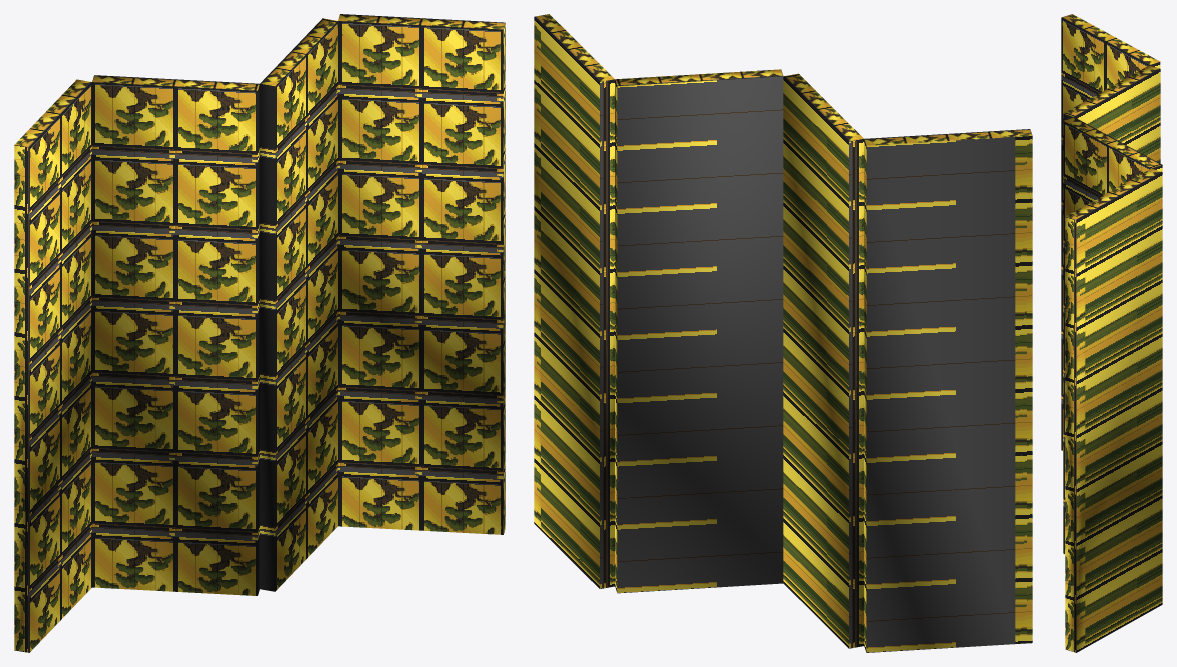
Rendered from 3267IMIG04_01.gltf.
3 views of the same model, side by side, from view 1: azimuth 30°, elevation 25°; view 2: azimuth 150°, elevation 25°; view 3: azimuth 270°, elevation 25° (orthographic). The views are drawn at different scales.
Visible parts, largest first — view 1: 3267IMIG04_01; view 2: 3267IMIG04_01; view 3: 3267IMIG04_01.
Part boxes in pixels (x1,y1,x2,y2): 3267IMIG04_01: (14,14,505,652); 3267IMIG04_01: (534,14,1032,652); 3267IMIG04_01: (1061,14,1162,652).
Size of the model in its own units: 1.88 by 1.84 by 0.3911.
Materials: 1 (1 with a texture image).
